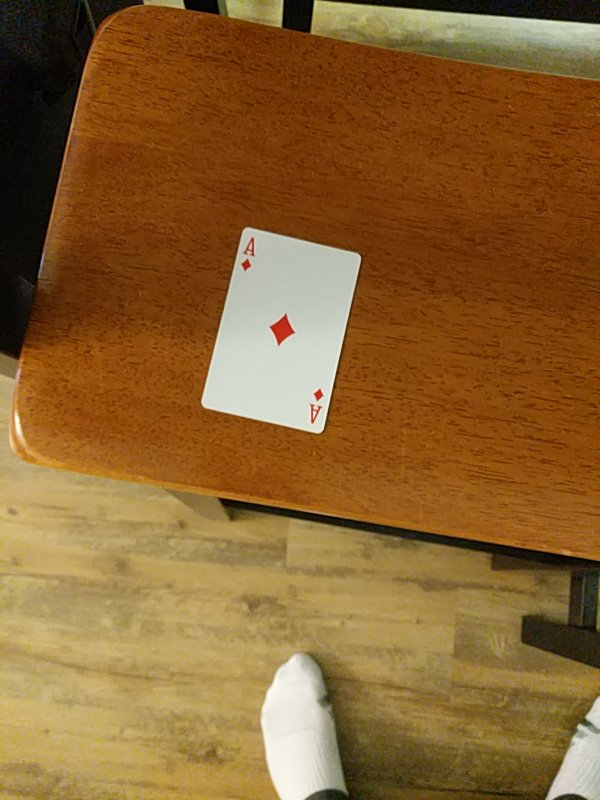Diamonds: (198, 227, 365, 439)
